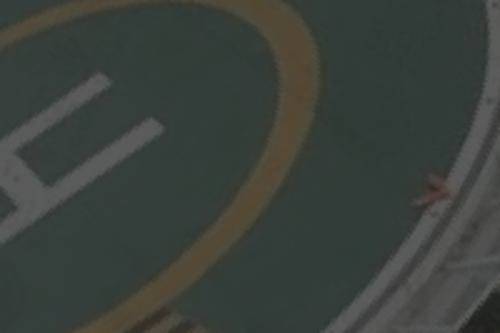Apron: (1, 1, 337, 328)
